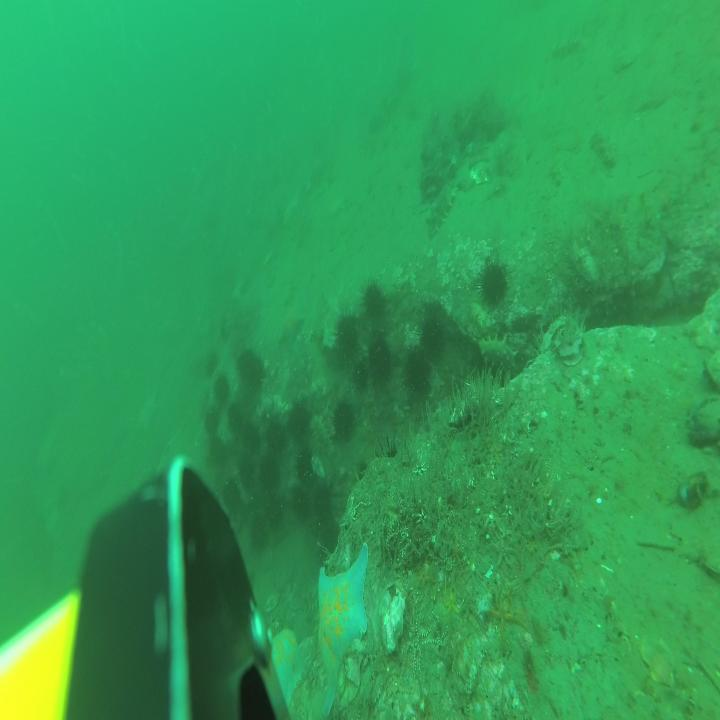echinus: (478, 254, 510, 314), (402, 343, 431, 403), (377, 437, 405, 486), (367, 332, 393, 384), (335, 312, 360, 364), (420, 316, 446, 364), (361, 275, 384, 326), (310, 482, 332, 528), (288, 401, 310, 441), (290, 484, 312, 524), (259, 452, 279, 495), (319, 521, 340, 561), (334, 398, 354, 439), (223, 480, 243, 516), (264, 493, 284, 529), (267, 416, 285, 454), (249, 514, 265, 555), (212, 370, 228, 410), (352, 361, 370, 395), (238, 454, 254, 492), (295, 445, 311, 482), (236, 347, 254, 378), (357, 460, 373, 490), (210, 434, 224, 468), (245, 421, 260, 452), (249, 359, 265, 388), (229, 399, 242, 433), (203, 407, 218, 435), (204, 352, 217, 379)
holothurian: (477, 334, 519, 384), (428, 177, 459, 241), (589, 127, 616, 169), (310, 414, 336, 456), (304, 581, 332, 616), (554, 34, 585, 61), (548, 159, 562, 189)
scallop: (640, 633, 676, 687), (618, 39, 644, 71), (470, 159, 493, 186), (260, 592, 280, 618), (259, 545, 273, 575)
starfish: (318, 538, 369, 716), (268, 629, 303, 713), (484, 587, 528, 651), (278, 301, 304, 353), (442, 578, 463, 619), (416, 564, 432, 594)
